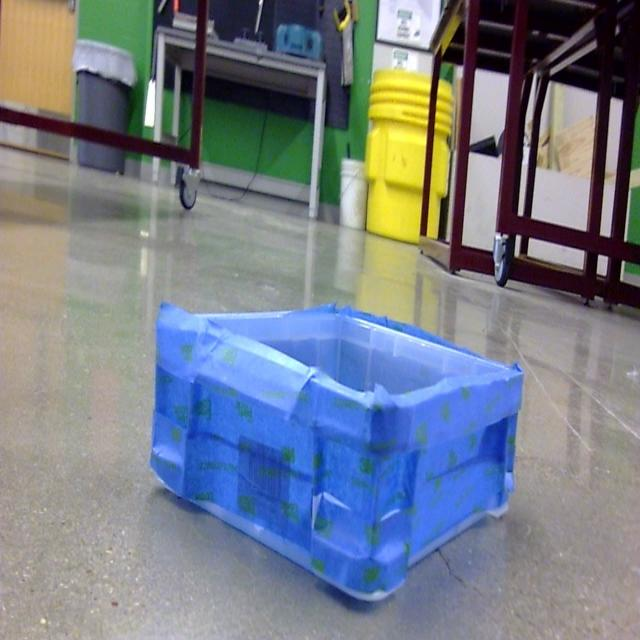bucket: (148, 303, 526, 607)
